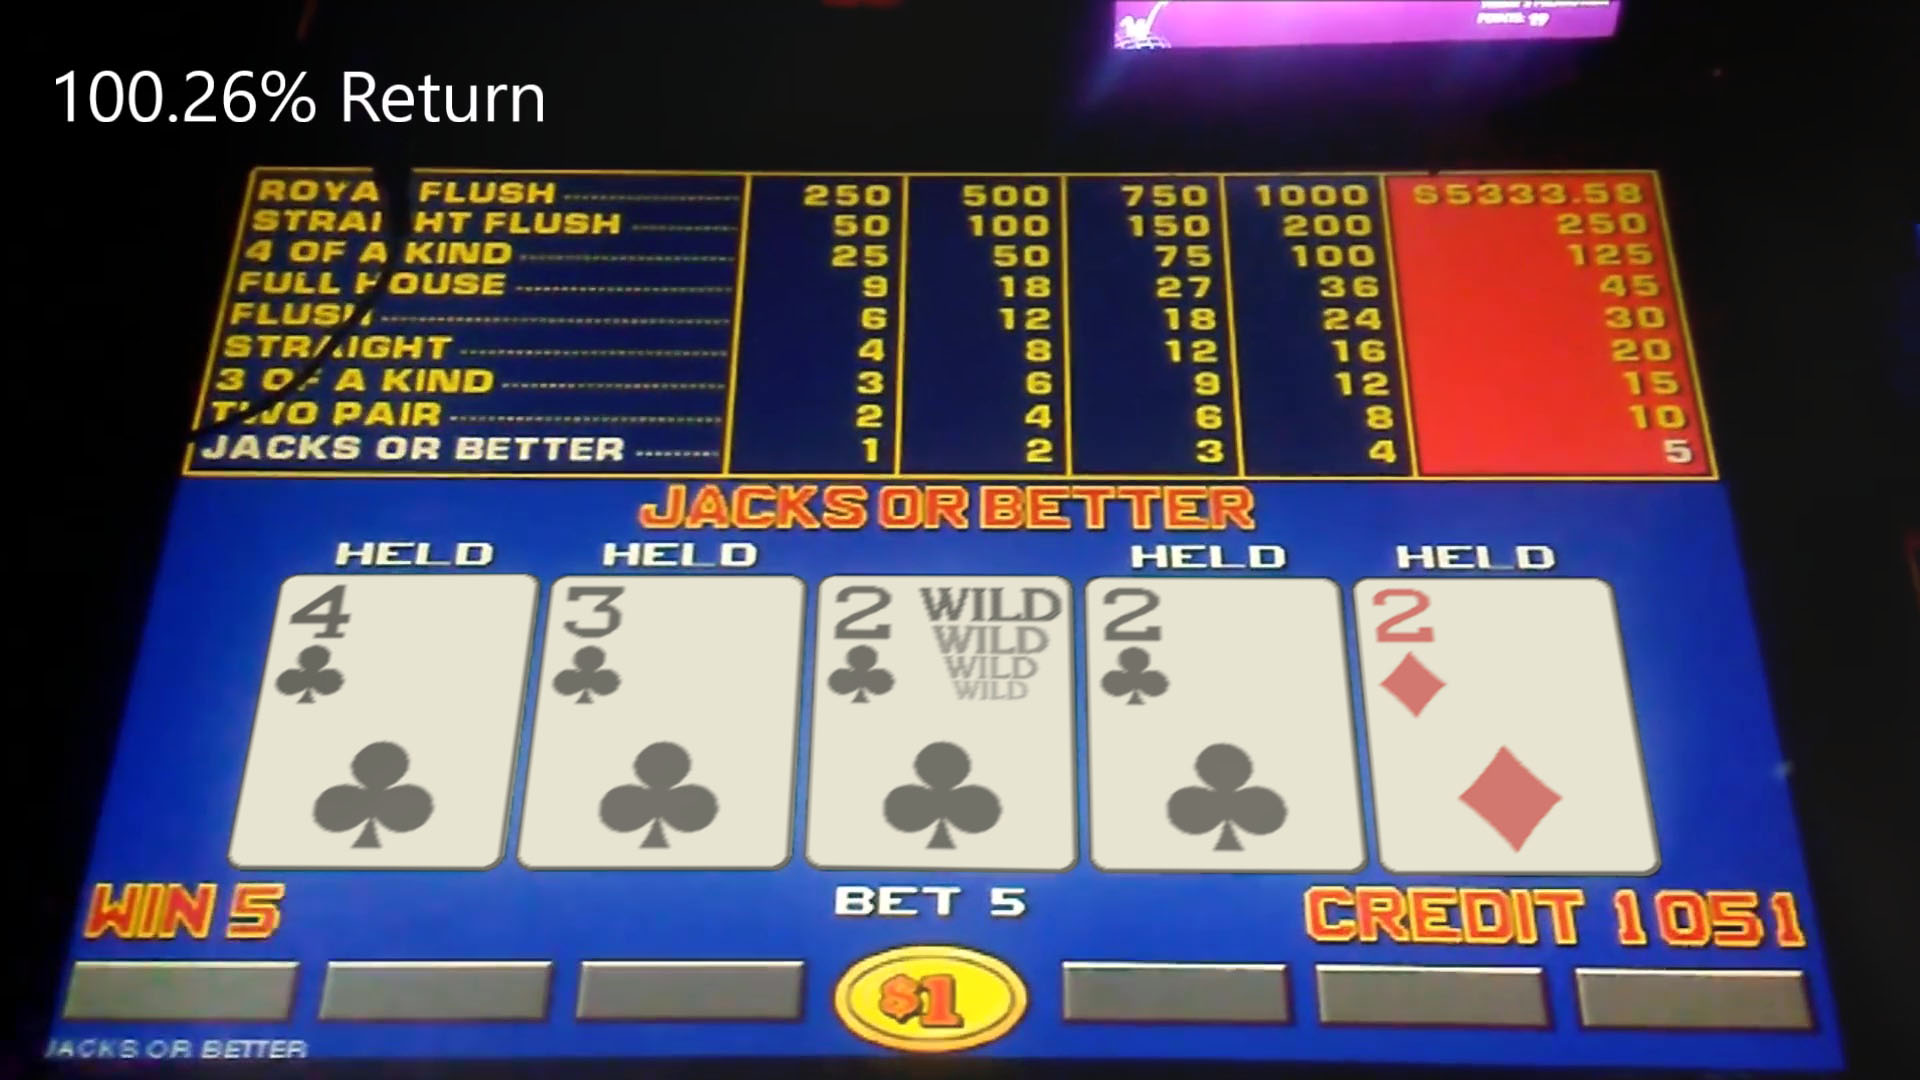C2: (1091, 580, 1348, 872)
C2W: (811, 575, 1076, 869)
C3: (546, 575, 795, 866)
C4: (266, 576, 506, 865)
D2: (1373, 582, 1625, 872)
